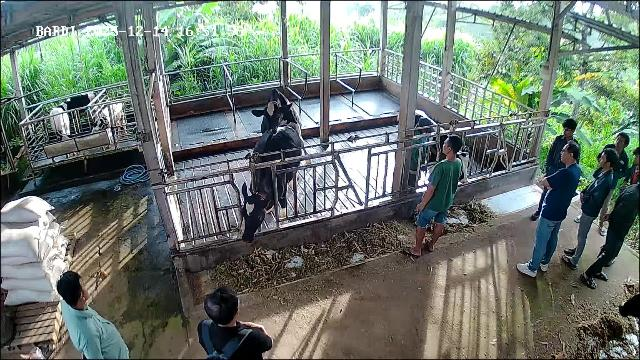mounting: (250, 90, 312, 180)
